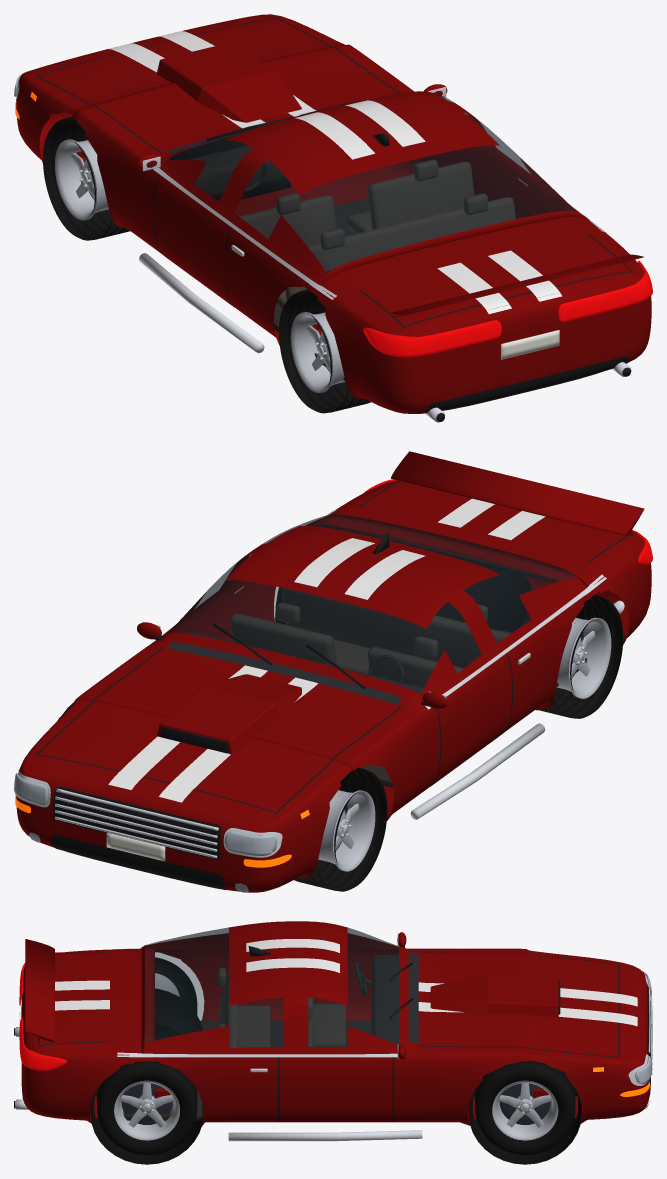
The model's file is MuscleCar.fbx.
3 views of the same model, one above another, from view 1: azimuth 30°, elevation 25°; view 2: azimuth 150°, elevation 25°; view 3: azimuth 270°, elevation 25° (orthographic). The views are drawn at different scales.
Parts seen in each view (by area): view 1: MuscleCar_Body, MuscleCar_Trim, MuscleCar_Glass, MuscleCar_Wheel3, MuscleCar_Wheel1, MuscleCar_Lights; view 2: MuscleCar_Body, MuscleCar_Trim, MuscleCar_Glass, MuscleCar_Wheel1, MuscleCar_Wheel3, MuscleCar_Lights; view 3: MuscleCar_Body, MuscleCar_Trim, MuscleCar_Glass, MuscleCar_Wheel2, MuscleCar_Wheel4, MuscleCar_Lights, MuscleCar_Wheel3.
Boxes of the visible parts, box(x1,y1,x2,y2) form: MuscleCar_Body: box(16, 14, 651, 413); MuscleCar_Trim: box(16, 17, 633, 422); MuscleCar_Glass: box(168, 93, 575, 273); MuscleCar_Wheel3: box(279, 289, 371, 413); MuscleCar_Wheel1: box(43, 116, 130, 240); MuscleCar_Lights: box(14, 69, 652, 357); MuscleCar_Body: box(16, 451, 651, 892); MuscleCar_Trim: box(17, 480, 633, 890); MuscleCar_Glass: box(169, 514, 576, 694); MuscleCar_Wheel1: box(294, 767, 387, 891); MuscleCar_Wheel3: box(519, 595, 623, 718); MuscleCar_Lights: box(14, 479, 652, 892); MuscleCar_Body: box(21, 921, 650, 1126); MuscleCar_Trim: box(14, 932, 652, 1164); MuscleCar_Glass: box(145, 927, 398, 1047); MuscleCar_Wheel2: box(475, 1062, 575, 1155); MuscleCar_Wheel4: box(97, 1062, 197, 1155); MuscleCar_Lights: box(19, 952, 651, 1108); MuscleCar_Wheel3: box(155, 957, 197, 1014).
Size of the model in its own units: 8.01 by 5.03 by 17.81.
